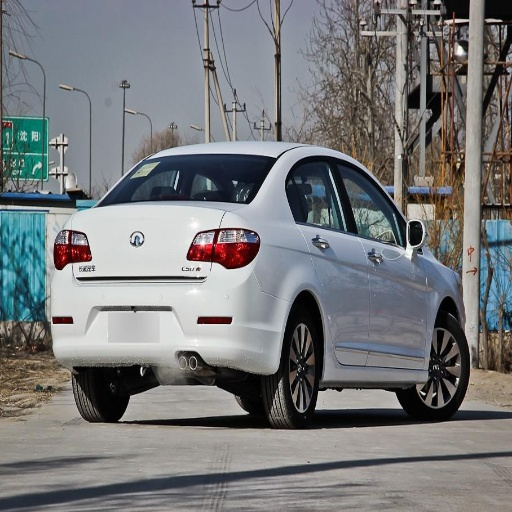back_bumper: (51, 261, 290, 374)
back_right_door: (290, 157, 369, 366)
trunk: (60, 204, 224, 307)
